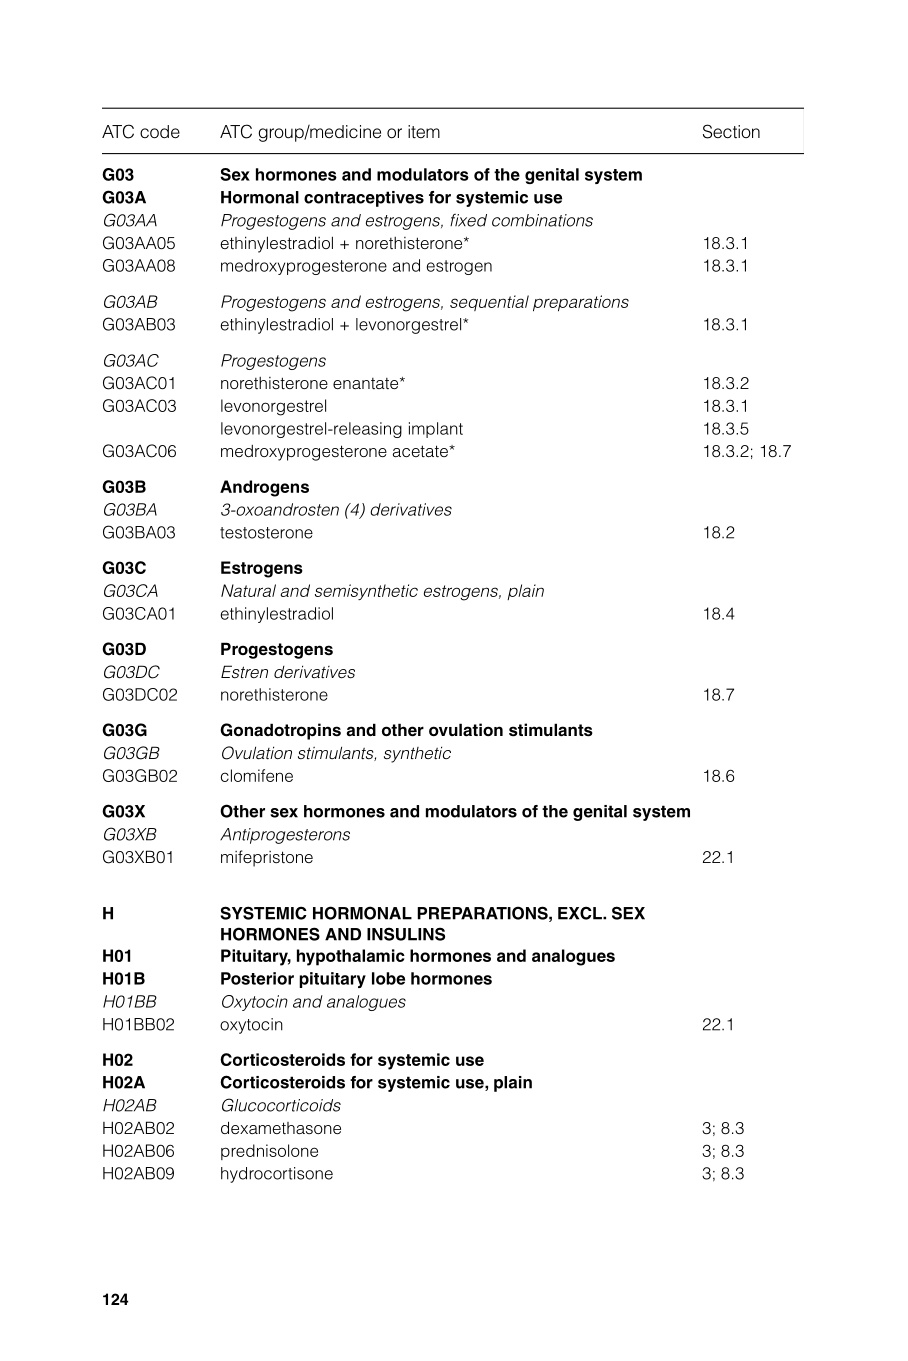partial_lined: (100, 106, 805, 1186)
